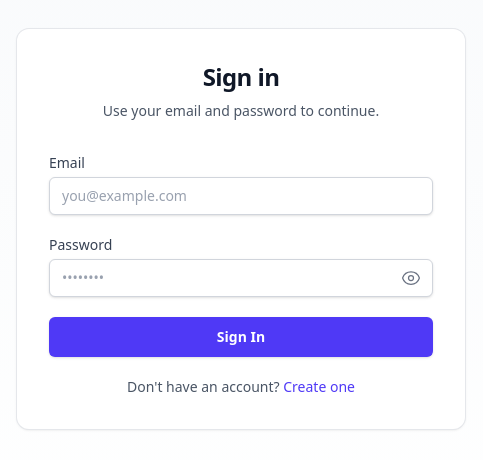
Scenario: LoginForm › should show validation error for empty password
Type "test@example.com" into the field labelled "Email".
click(241, 196); type("test@example.com")  # box top-left (49, 177), bottom-right (433, 215)
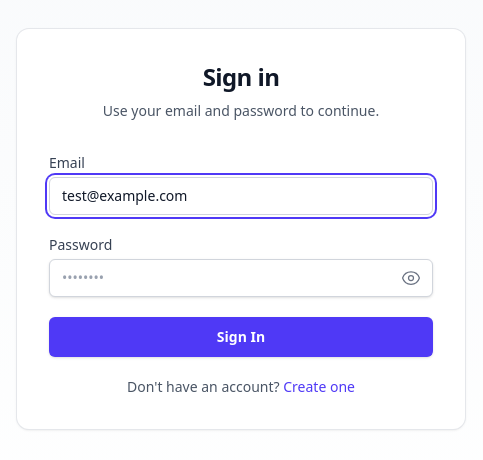
Click the button "Sign In".
click(241, 337)  # box top-left (49, 317), bottom-right (433, 357)
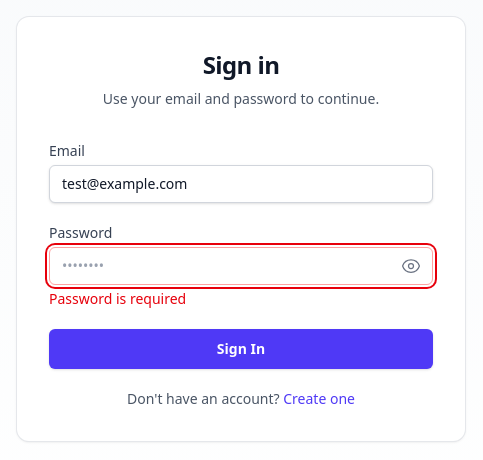
expect the text "Password is required" is shown: met, box top-left (49, 289), bottom-right (186, 308)
